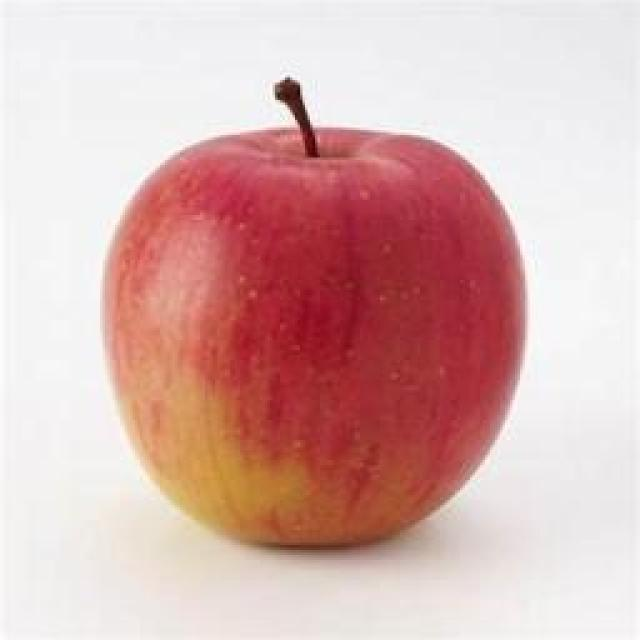apple: (100, 128, 529, 550)
